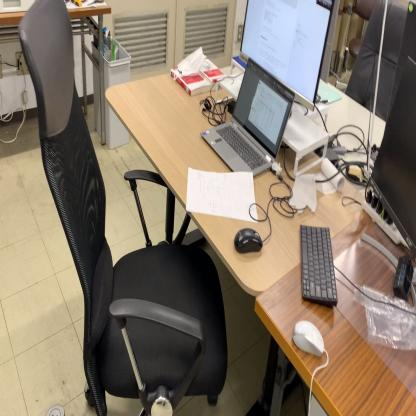chair: (18, 0, 228, 412)
